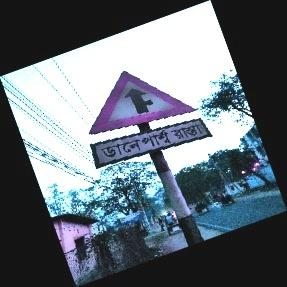Side-road-right: (89, 71, 211, 166)
